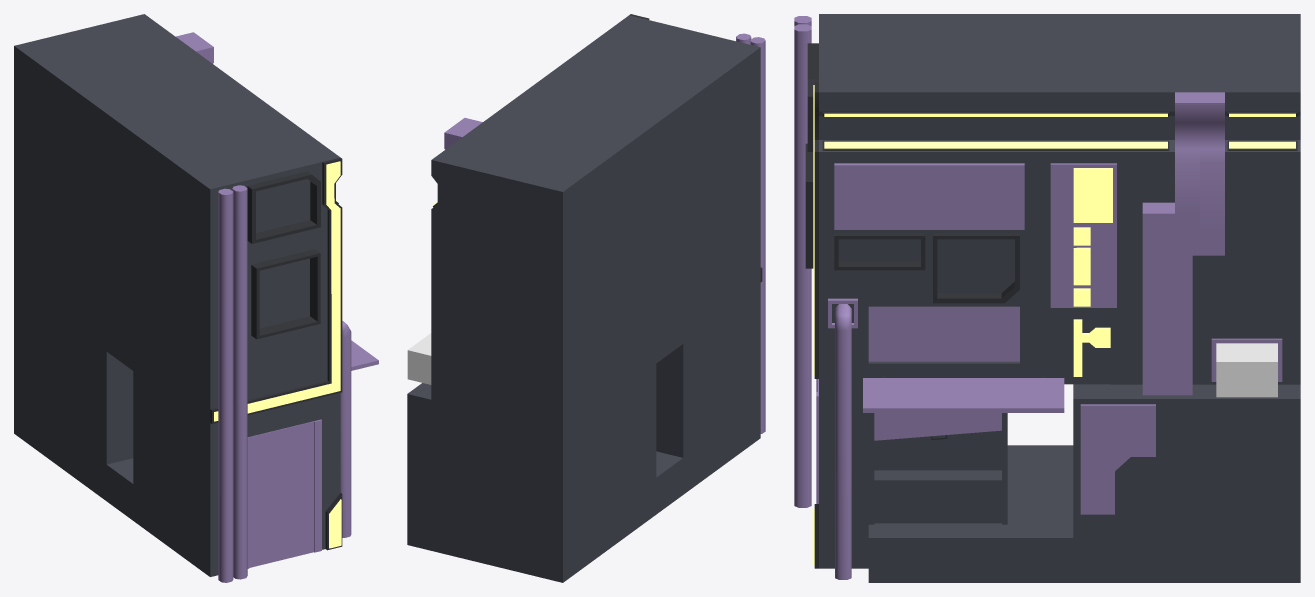
File: Building_L_02_Env_BLOCK.fbx
3 renders of one model, left to right at view 1: azimuth 30°, elevation 25°; view 2: azimuth 150°, elevation 25°; view 3: azimuth 270°, elevation 25°, orthographic. The views are drawn at different scales.
Visible parts, largest first — view 1: BuildingBase_BLOCK, GarageGrate_BLOCK, Pipe_Long_22, Pipe_Long_23, WindowFrames_BLOCK, Side_EM_BLOCK, Side_Hold_BLOCK, Pipe_Long_04, SideBottom_EM_BLOCK, RoofGrate_BLOCK; view 2: BuildingBase_BLOCK, Pipe_Long_22, AirConUnit_Main_BLOCK1; view 3: BuildingBase_BLOCK, TopGrate_BLOCK, Pipe_Long_05, LowerGrate_BLOCK, Pipe_Long_06, Pipe_Long_23, RoofGrate_BLOCK, RightMetalLightHold_BLOCK, DecMetal_BLOCK, WindowFrames_BLOCK, Pipe_Long_04, Wall_EM_BLOCK (+9 smaller).
Part boxes in pixels (x1=…): BuildingBase_BLOCK: x1=14, y1=14, x2=340, y2=576; GarageGrate_BLOCK: x1=247, y1=419, x2=321, y2=568; Pipe_Long_22: x1=218, y1=188, x2=233, y2=582; Pipe_Long_23: x1=232, y1=185, x2=247, y2=579; WindowFrames_BLOCK: x1=247, y1=171, x2=320, y2=339; Side_EM_BLOCK: x1=214, y1=161, x2=340, y2=421; Side_Hold_BLOCK: x1=210, y1=157, x2=342, y2=423; Pipe_Long_04: x1=340, y1=321, x2=351, y2=537; SideBottom_EM_BLOCK: x1=329, y1=499, x2=341, y2=548; RoofGrate_BLOCK: x1=351, y1=340, x2=378, y2=370; BuildingBase_BLOCK: x1=407, y1=15, x2=760, y2=582; Pipe_Long_22: x1=750, y1=37, x2=765, y2=433; AirConUnit_Main_BLOCK1: x1=407, y1=333, x2=431, y2=384; BuildingBase_BLOCK: x1=819, y1=14, x2=1300, y2=582; TopGrate_BLOCK: x1=834, y1=163, x2=1024, y2=229; Pipe_Long_05: x1=1142, y1=92, x2=1199, y2=395; LowerGrate_BLOCK: x1=868, y1=306, x2=1019, y2=361; Pipe_Long_06: x1=1167, y1=92, x2=1224, y2=395; Pipe_Long_23: x1=794, y1=24, x2=811, y2=507; RoofGrate_BLOCK: x1=863, y1=375, x2=1064, y2=412; RightMetalLightHold_BLOCK: x1=1050, y1=163, x2=1116, y2=307; DecMetal_BLOCK: x1=1080, y1=404, x2=1155, y2=514; WindowFrames_BLOCK: x1=805, y1=43, x2=1019, y2=303; Pipe_Long_04: x1=835, y1=304, x2=851, y2=579; Wall_EM_BLOCK: x1=1073, y1=168, x2=1112, y2=306.
Size of the model in its own units: 3.02 by 6 by 5.78.
